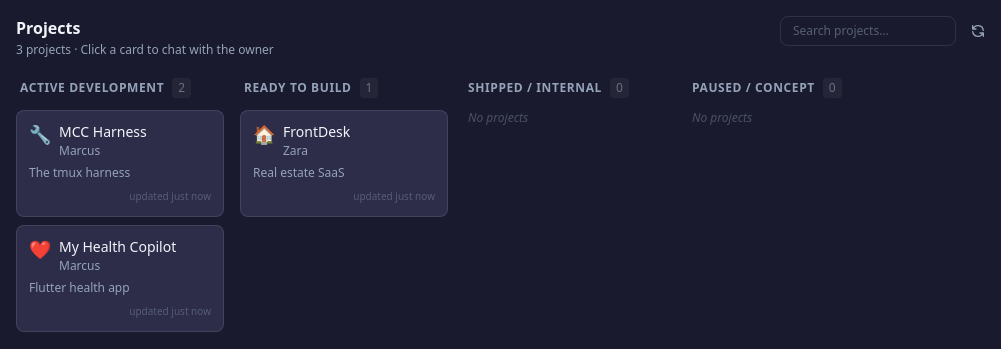
Test case: ProjectsView › filters projects by name
Type "Health" into the field with placeholder "Search projects..." at point(868, 31), box [780,16,956,46]
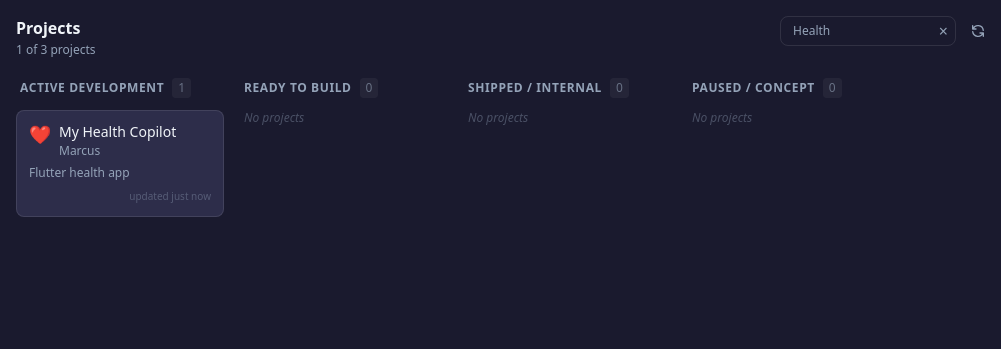
Expected: the text "My Health Copilot" is shown, [59,122,176,141]
Result: the button "MCC Harness" is gone
Result: the button "FrontDesk" is gone
